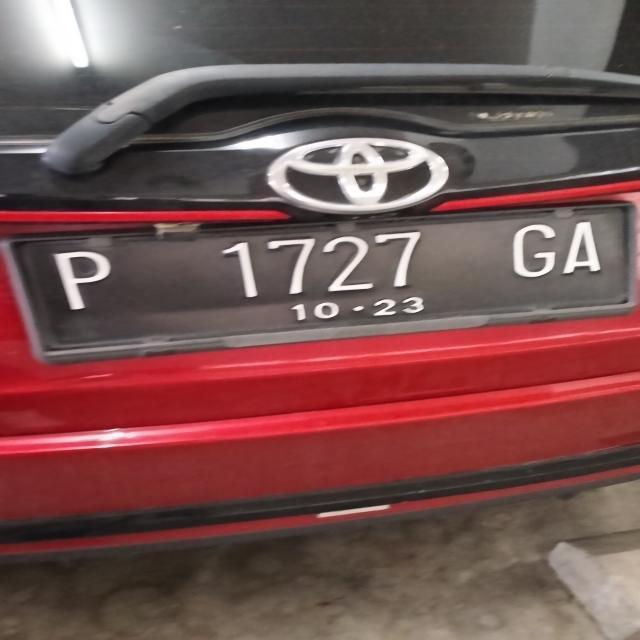1: (216, 236, 272, 304)
2: (316, 236, 381, 293)
7: (371, 231, 434, 292), (263, 240, 318, 299)
A: (558, 216, 618, 282)
G: (503, 222, 567, 280)
P: (34, 246, 128, 318)
